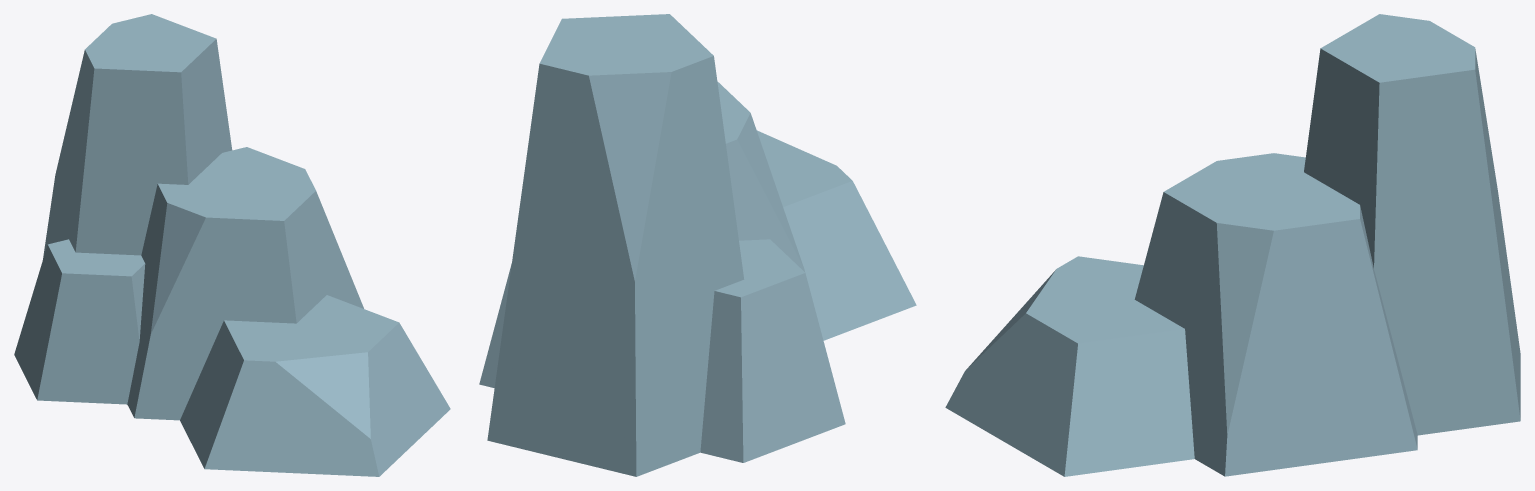
Rendered from rockWide.fbx.
The picture shows the model from 3 angles, left to right: view 1: azimuth 30°, elevation 25°; view 2: azimuth 150°, elevation 25°; view 3: azimuth 270°, elevation 25°; orthographic projection. The views are drawn at different scales.
Parts seen in each view (by area): view 1: rockWide; view 2: rockWide; view 3: rockWide.
Boxes of the visible parts, x1,y1,x2,y2 form: rockWide: (14, 14, 450, 476); rockWide: (479, 14, 916, 476); rockWide: (945, 14, 1520, 476).
Size of the model in its own units: 10.94 by 10.2 by 15.67.
